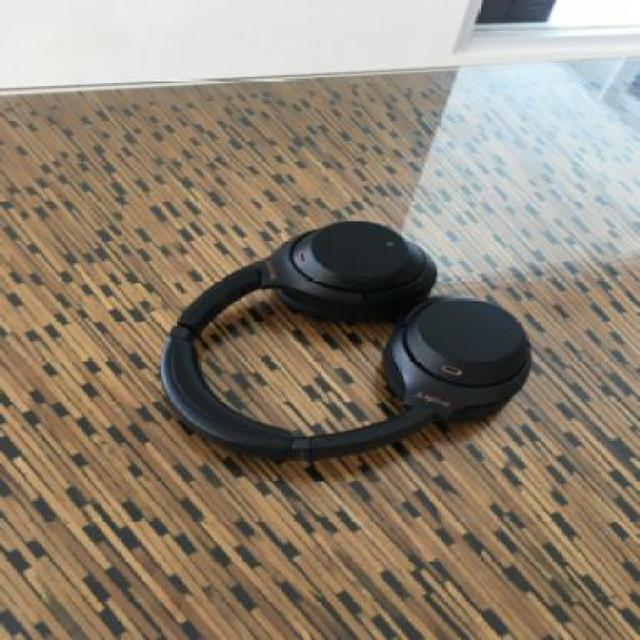earphone: (160, 190, 567, 487)
